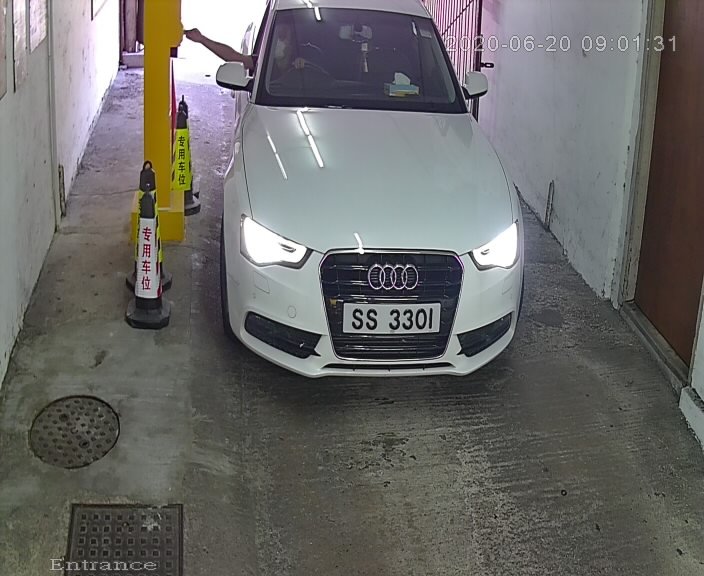privatecar: (208, 3, 546, 383)
